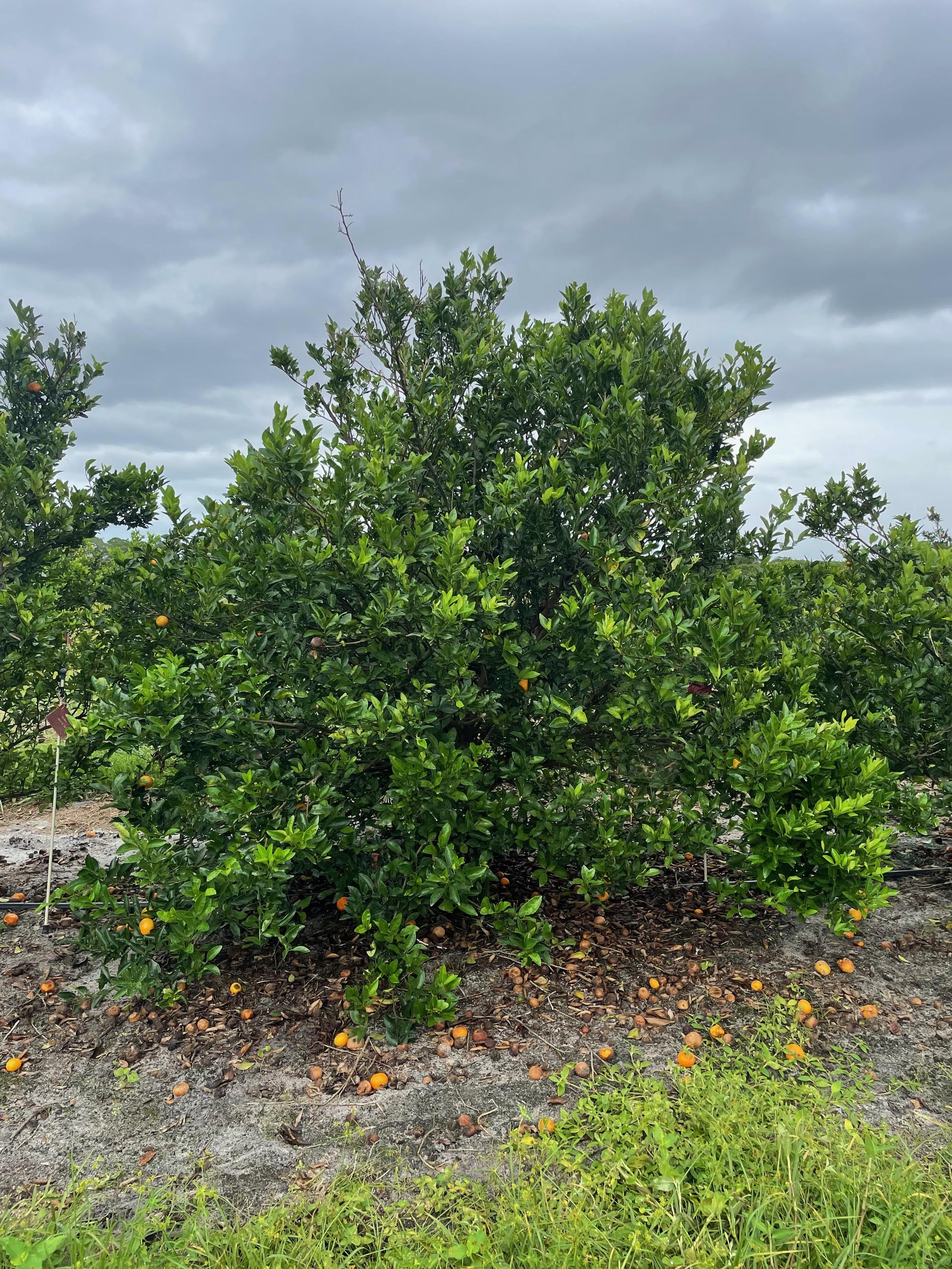fruit_on_ground: (846, 901, 870, 925), (515, 675, 535, 695), (137, 916, 156, 937), (334, 894, 353, 913), (25, 378, 43, 396), (137, 773, 155, 790), (308, 634, 325, 651), (154, 614, 171, 629)
fruit_on_tree: (782, 1041, 805, 1062), (346, 1033, 366, 1051), (676, 1050, 696, 1068), (4, 1055, 23, 1073), (537, 1115, 556, 1133), (573, 1059, 592, 1077), (355, 1078, 373, 1096), (371, 1071, 389, 1089), (813, 958, 831, 976), (332, 1030, 350, 1048), (505, 964, 524, 981), (451, 1023, 470, 1040), (2, 910, 21, 927), (860, 1003, 880, 1019), (684, 1030, 702, 1047), (837, 956, 855, 973), (527, 1064, 546, 1080), (430, 923, 447, 940), (172, 1080, 190, 1096), (434, 1042, 453, 1057), (471, 1027, 490, 1042), (39, 978, 56, 994), (227, 980, 244, 996), (307, 1064, 323, 1081), (598, 1044, 614, 1060), (796, 999, 812, 1015), (684, 959, 701, 974), (592, 913, 609, 928), (457, 1112, 474, 1127), (592, 986, 607, 1002), (804, 1014, 819, 1030), (708, 1023, 724, 1038), (749, 977, 764, 992), (516, 1122, 532, 1136), (527, 995, 543, 1009), (239, 1007, 255, 1021), (708, 985, 723, 999), (106, 1003, 121, 1017), (196, 1016, 211, 1030), (595, 890, 611, 903), (578, 937, 592, 951), (636, 986, 650, 1000), (722, 992, 737, 1005), (676, 998, 690, 1011), (631, 1013, 645, 1026), (648, 976, 662, 989), (722, 1033, 736, 1046), (12, 890, 27, 902), (579, 1011, 592, 1023), (498, 875, 512, 886), (595, 932, 607, 944), (648, 993, 660, 1005), (683, 942, 695, 953), (683, 850, 695, 861), (128, 1011, 140, 1022), (693, 906, 705, 917), (842, 928, 854, 939), (684, 890, 695, 900), (664, 901, 675, 911), (85, 828, 97, 837)
